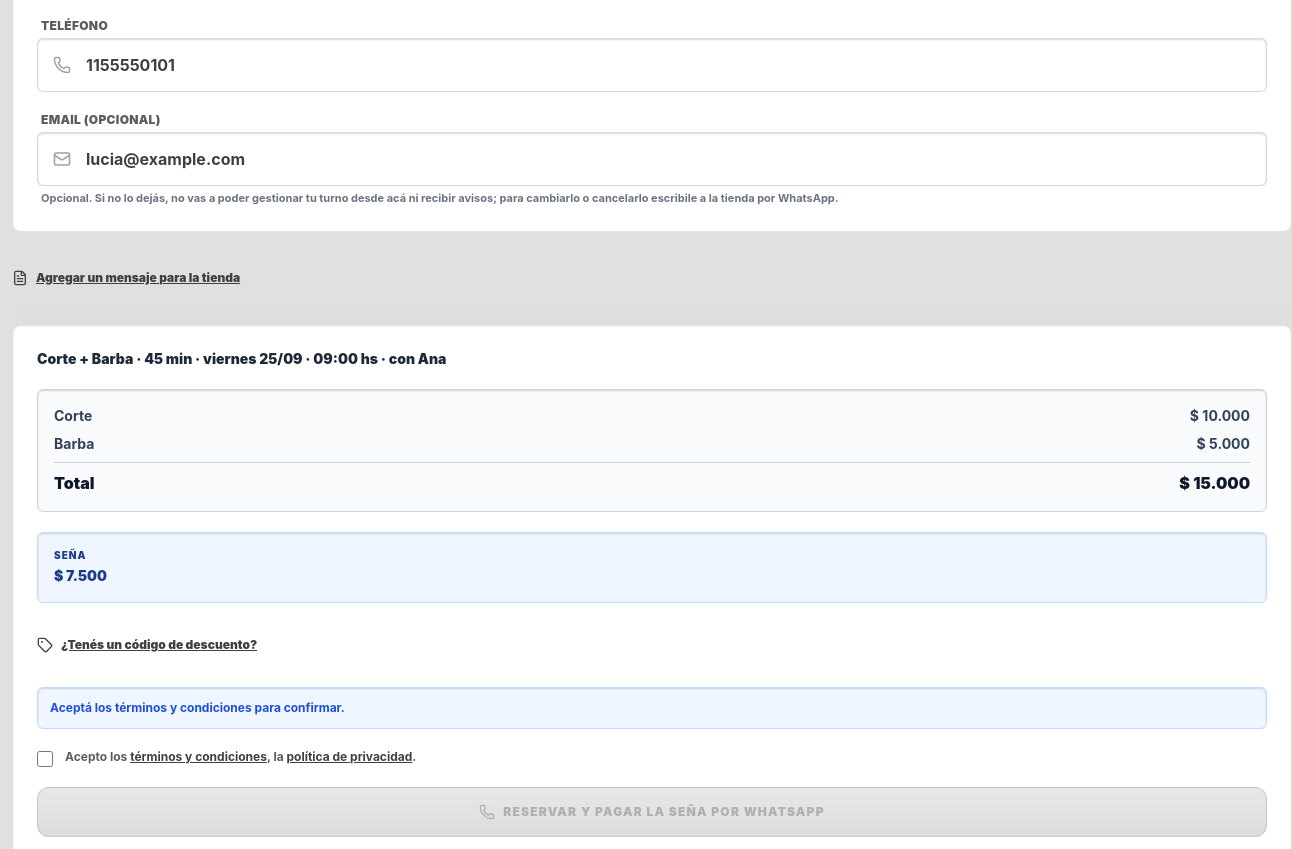
Test: BookingStepConfirmation con varios servicios › si la reserva rebota con SERVICES_TOO_LONG lo explica y no culpa al horario
The width and height of the screenshot is (1292, 849).
(page scrolled)
Click the checkbox at (45, 759), box [37,751,53,767]
(page scrolled)
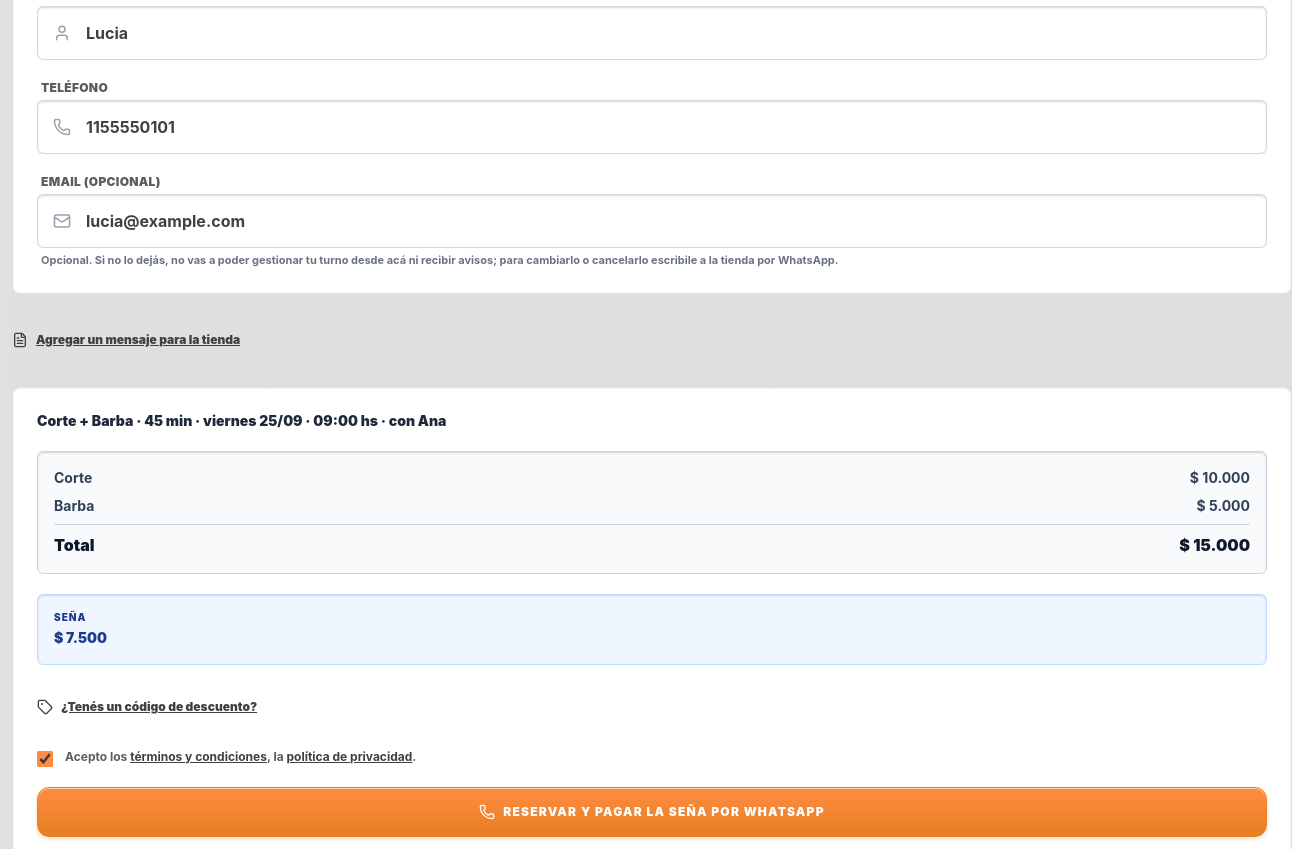
expect the button "Reservar y pagar la seña por WhatsApp" is enabled: met
Click the button "Reservar y pagar la seña por WhatsApp" at (652, 812), box [37,787,1267,837]
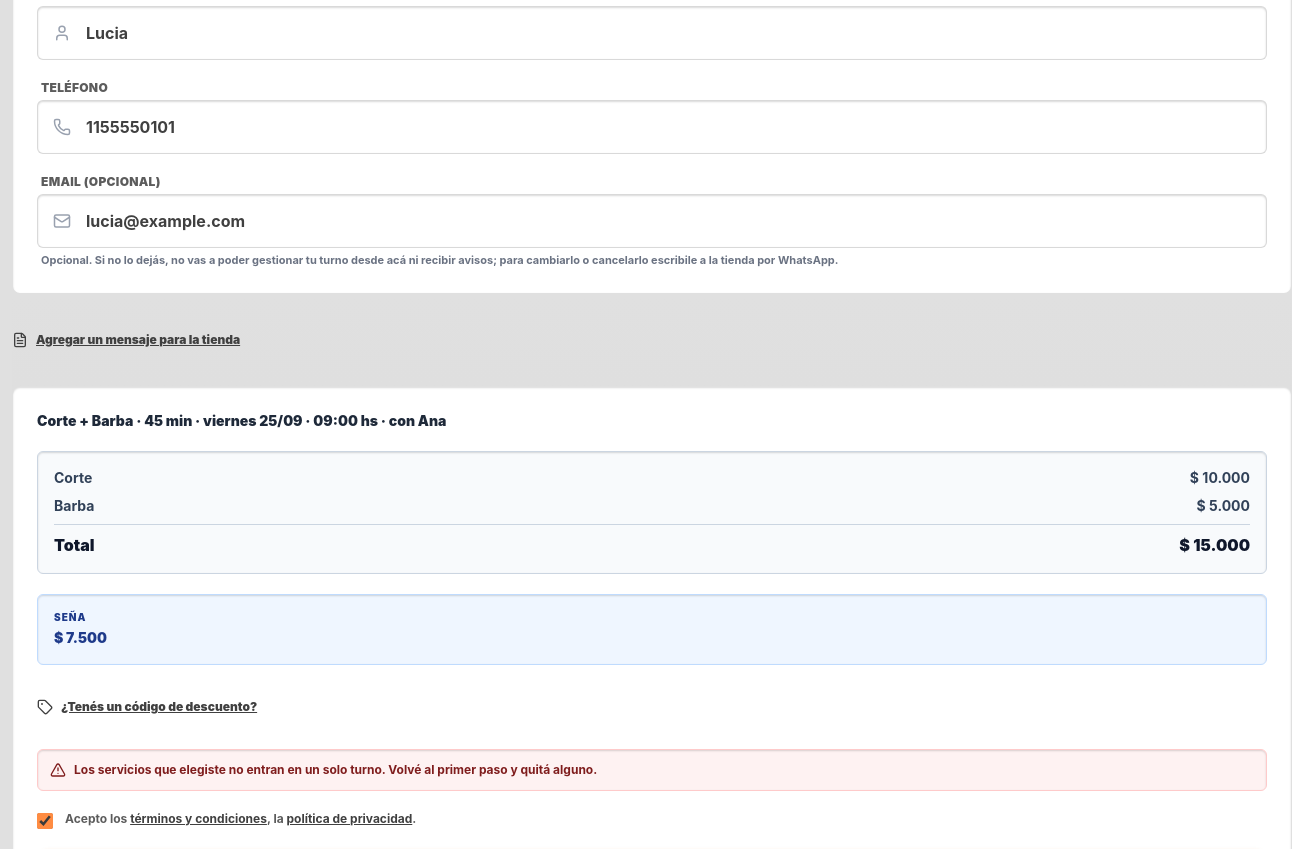
expect the text "Los servicios que elegiste no entran en un solo turno." is shown: met, box [74,762,597,777]
